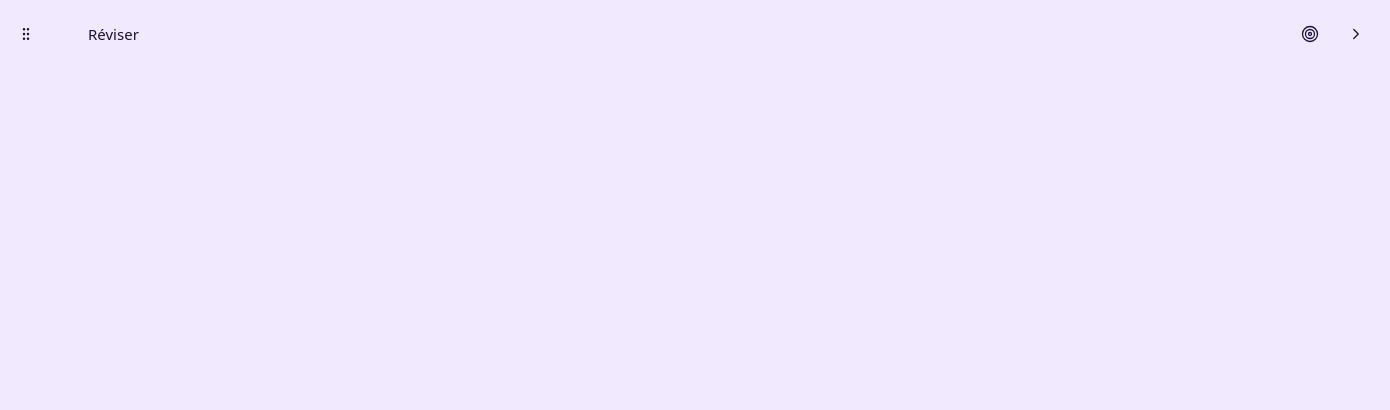
Test: TaskRow — emoji, couleur, durée estimée (lot 6, §8) › déplie les options au clic sur le chevron
This screenshot has width=1390, height=410.
Click the button named "Options de la tâche": (1356, 34) [1334, 12, 1378, 56]
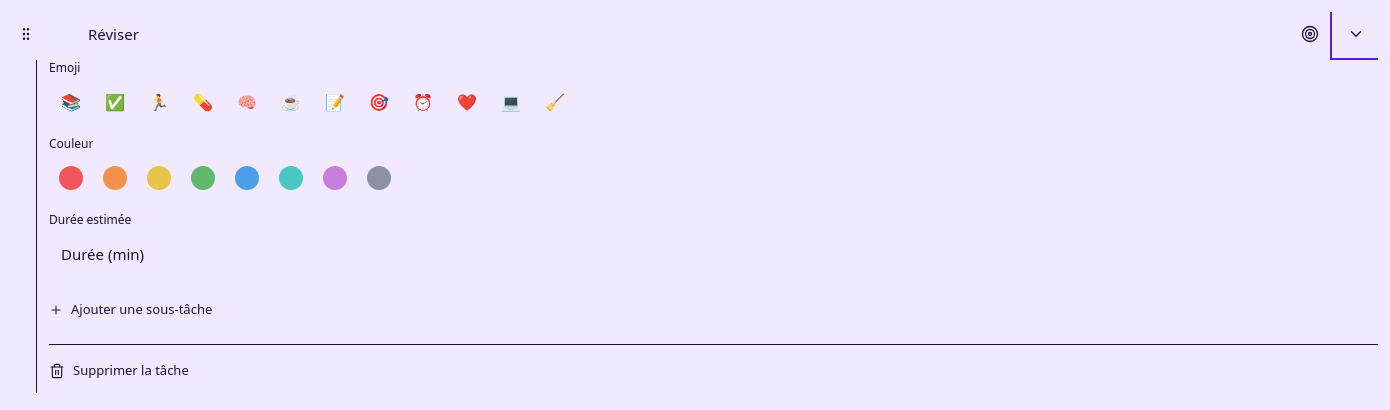
Now the text "Emoji" is shown, box [49, 59, 80, 76]
Now the text "Couleur" is shown, box [49, 135, 94, 152]
Now the text "Durée estimée" is shown, box [49, 211, 131, 228]
